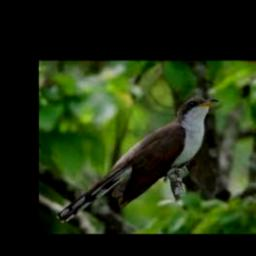Cuckoo: (56, 97, 218, 223)
